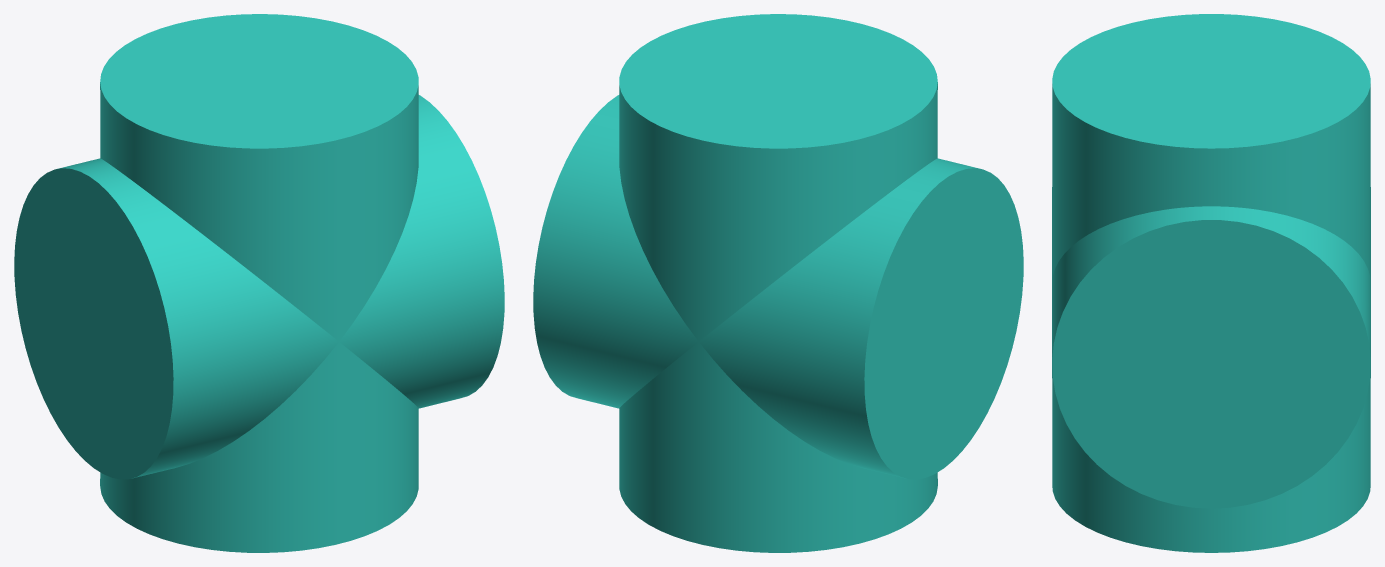
Rendered from hip_motor_link_sinister.obj.
The picture shows the model from 3 angles, left to right: view 1: azimuth 30°, elevation 25°; view 2: azimuth 150°, elevation 25°; view 3: azimuth 270°, elevation 25°; orthographic projection.
Visible parts, largest first — view 1: Body1; view 2: Body1; view 3: Body1.
Boxes of the visible parts, x1=… form: Body1: x1=14, y1=14, x2=504, y2=552; Body1: x1=533, y1=14, x2=1023, y2=552; Body1: x1=1052, y1=14, x2=1370, y2=552.
Bounding box in the file's own units: 0.12 × 0.14 × 0.1.
